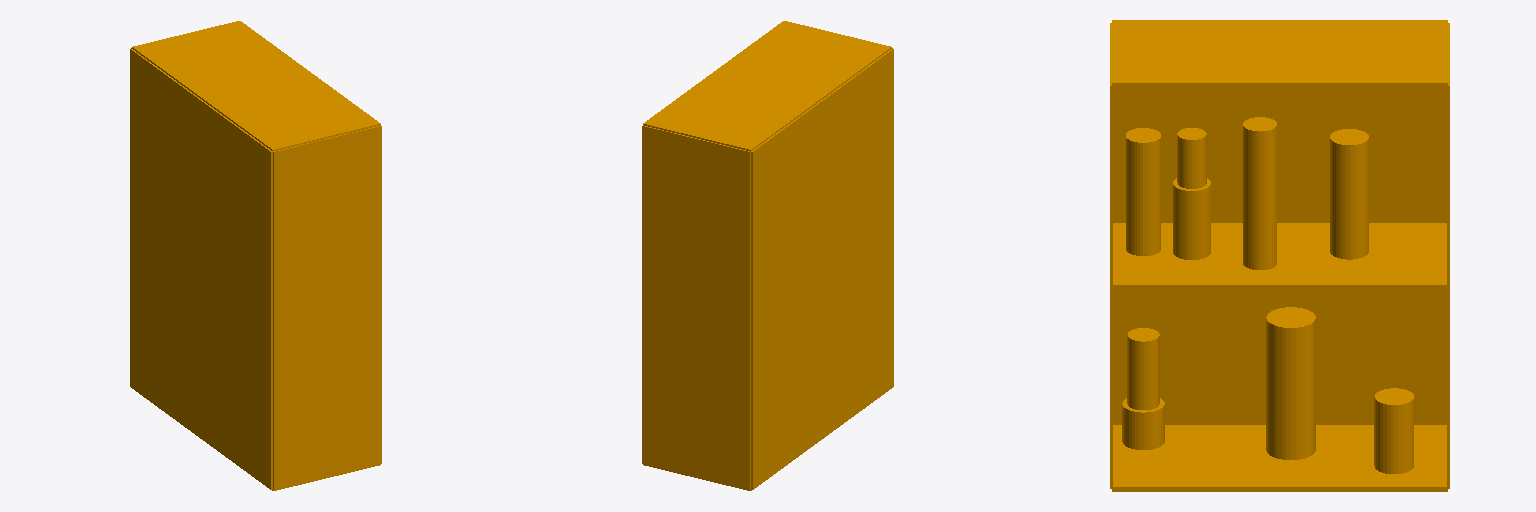
URDF robot description (syn_can_cabinet_2271):
<?xml version="1.0" ?>
<robot name="syn_can_cabinet_2271">
    <link concave="yes" name="base_link">
        <inertial>
            <origin rpy="0 0 0" xyz="0 0 0"/>
            <mass value="0.0"/>
            <inertia ixx="1e-08" ixy="0" ixz="0" iyy="1e-08" iyz="0" izz="1e-08"/>
        </inertial>
        <visual>
            <origin xyz="0 0 0" rpy="0 0 0" />
            <geometry>
                <mesh filename="syn_can_cabinet_2271.obj" scale="1.000000 1.000000 1.000000"/>
            </geometry>         
        </visual>

        <collision concave="yes">
            <origin xyz="0 0 0" rpy="0 0 0"/>
            <geometry>
                <mesh filename="syn_can_cabinet_2271.obj" scale="1.000000 1.000000 1.000000"/>
            </geometry>
        </collision>
    </link>
</robot>
    

--- Facts derived from the render (not from the file) ---
Views: 3 orthographic renders of the robot side by side, from view 1: azimuth 30°, elevation 25°; view 2: azimuth 150°, elevation 25°; view 3: azimuth 270°, elevation 25°.
Robot: syn_can_cabinet_2271 — 1 links, 0 joints (none); root link base_link; default pose: all joints at 0.
Visible links, largest first — view 1: base_link; view 2: base_link; view 3: base_link.
Link boxes in pixels (box(x1,y1,x2,y2)): base_link: box(130, 21, 381, 490); base_link: box(642, 21, 893, 490); base_link: box(1110, 20, 1449, 491).
Bounding box of the posed robot: 0.191 × 0.429 × 0.5682 m (x, y, z).
1 mesh visuals loaded from 1 distinct referenced files (1 OBJ).
